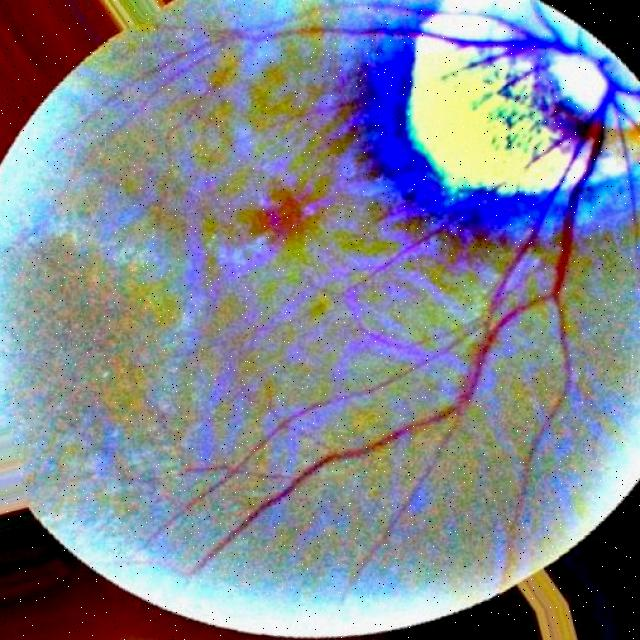Macula: (263, 194, 309, 250)
Nerves: (299, 336, 506, 483), (489, 133, 609, 341), (383, 24, 551, 53)
Optic Disk: (549, 54, 607, 118)
